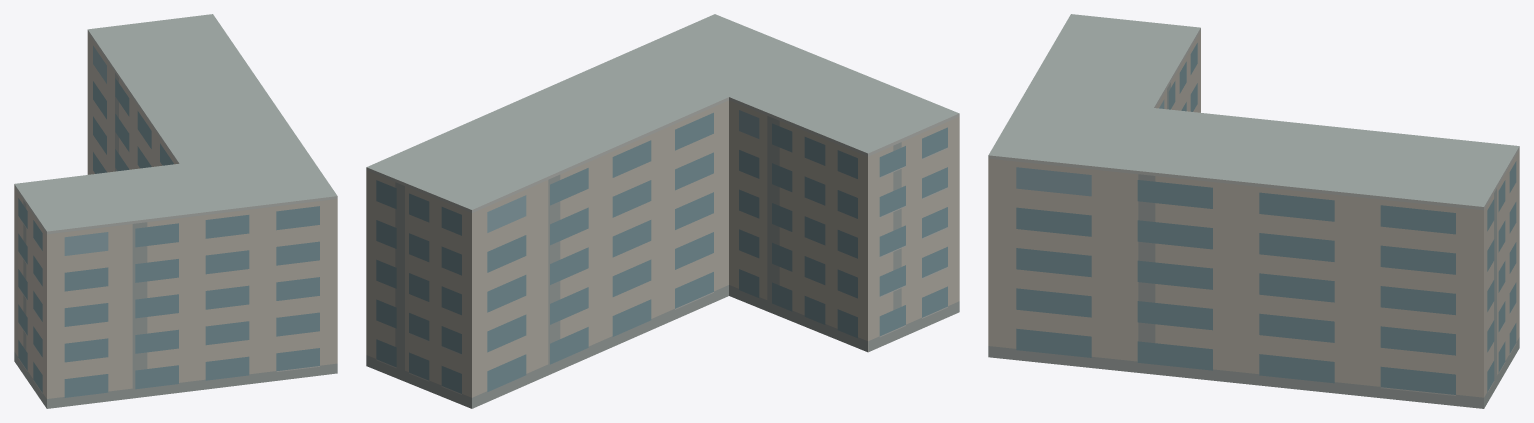
Rendered from residential-d4da5c76-9e0a-45e9-8f01-d4496d4824bc.glb.
The picture shows the model from 3 angles, left to right: view 1: azimuth 30°, elevation 25°; view 2: azimuth 150°, elevation 25°; view 3: azimuth 270°, elevation 25°; orthographic projection. The views are drawn at different scales.
Parts seen in each view (by area): view 1: residential-d4da5c76-9e0a-45e9-8f01-d4496d4824bc.tmp; view 2: residential-d4da5c76-9e0a-45e9-8f01-d4496d4824bc.tmp; view 3: residential-d4da5c76-9e0a-45e9-8f01-d4496d4824bc.tmp.
Boxes of the visible parts, x1,y1,x2,y2 form: residential-d4da5c76-9e0a-45e9-8f01-d4496d4824bc.tmp: (14, 14, 337, 408); residential-d4da5c76-9e0a-45e9-8f01-d4496d4824bc.tmp: (366, 14, 959, 408); residential-d4da5c76-9e0a-45e9-8f01-d4496d4824bc.tmp: (988, 14, 1519, 408).
Size of the model in its own units: 31.28 by 15.25 by 36.38.
